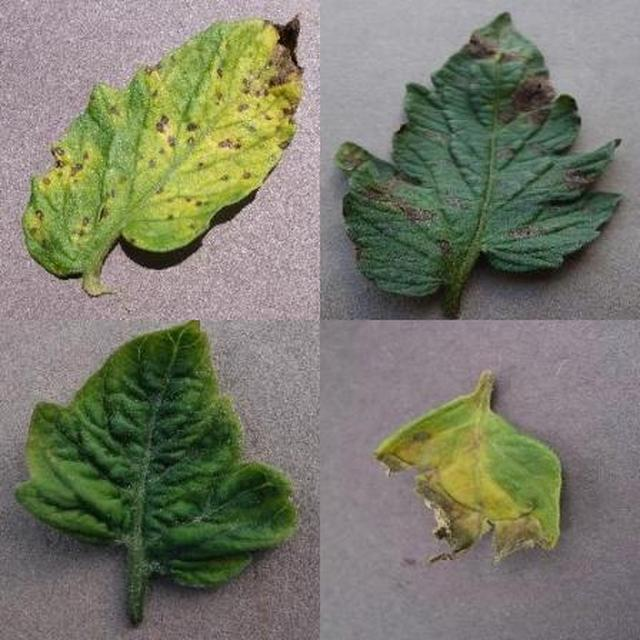Septoria Leaf: (219, 209, 640, 640)
